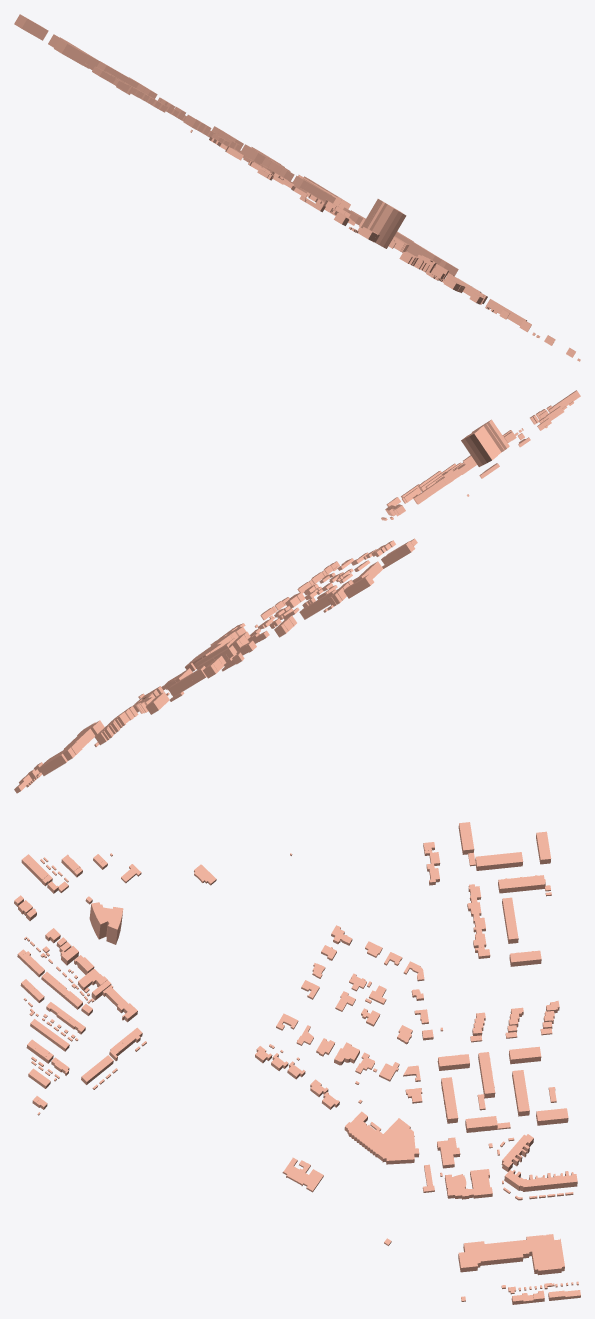
The picture shows the model from 3 angles, top to bottom: view 1: azimuth 30°, elevation 25°; view 2: azimuth 150°, elevation 25°; view 3: azimuth 270°, elevation 25°; orthographic projection. The views are drawn at different scales.
Size of the model in its own units: 479 by 383 by 639.
